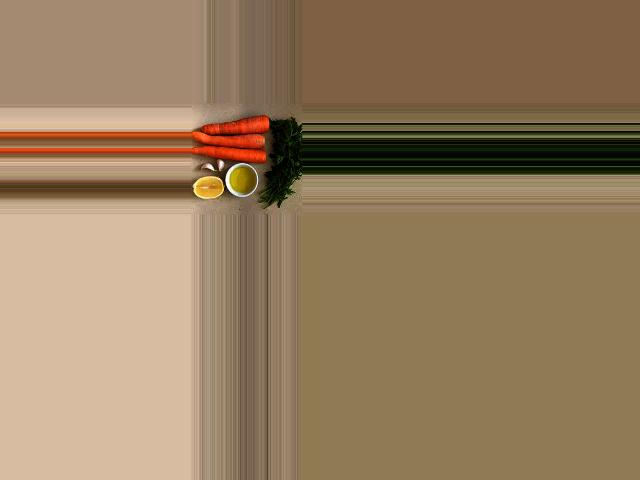carrot: (191, 143, 270, 163)
